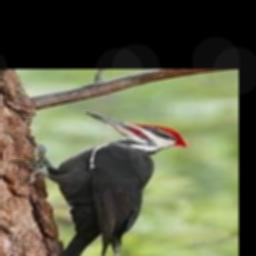Woodpecker: (16, 110, 187, 256)
